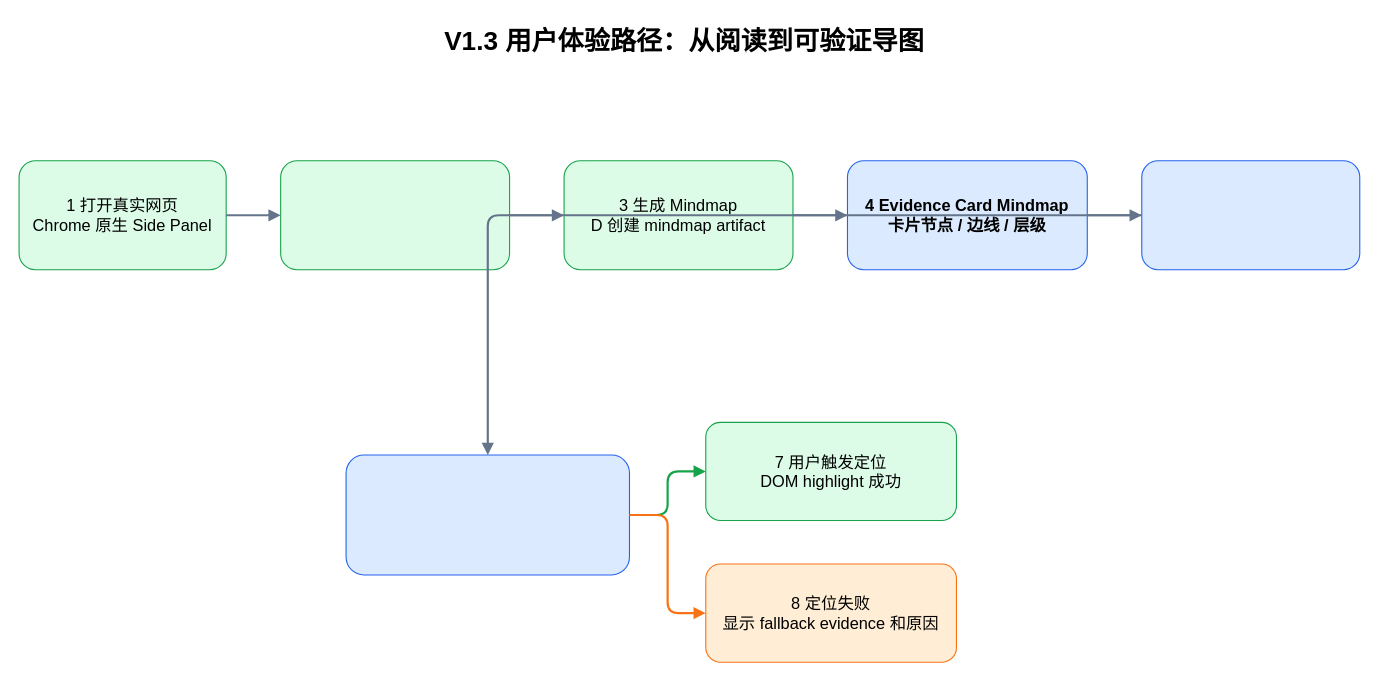
The diagram is 1379 pixels wide and 681 high, and some of its shapes have lost their labels. Each missing label, with the centre of its shape:
2 读取当前页面 A quality / digest / sourceRefs 可见: point 395,215
5 点击节点 selected + 邻接高亮: point 1250,215
6 Source Evidence Panel textQuote / fallbackText / sourceRefIds: point 487,514
